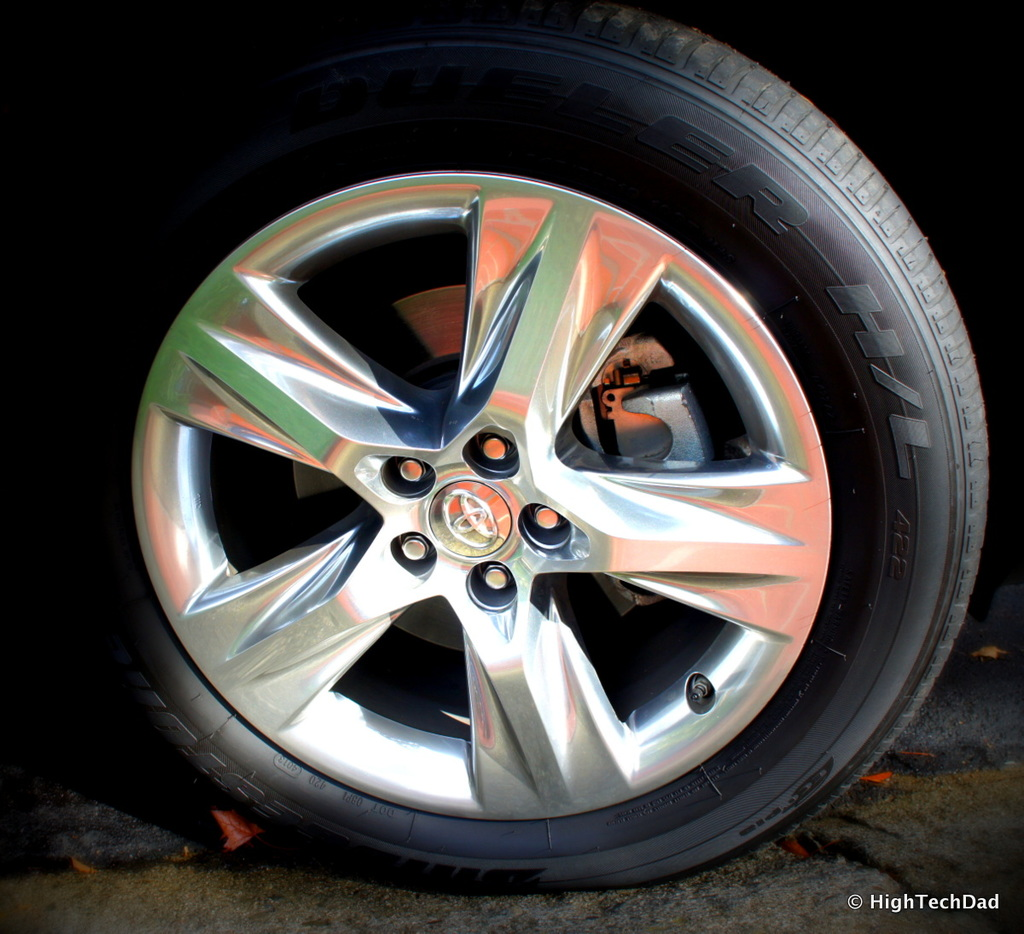Wheel: (0, 0, 994, 894)
